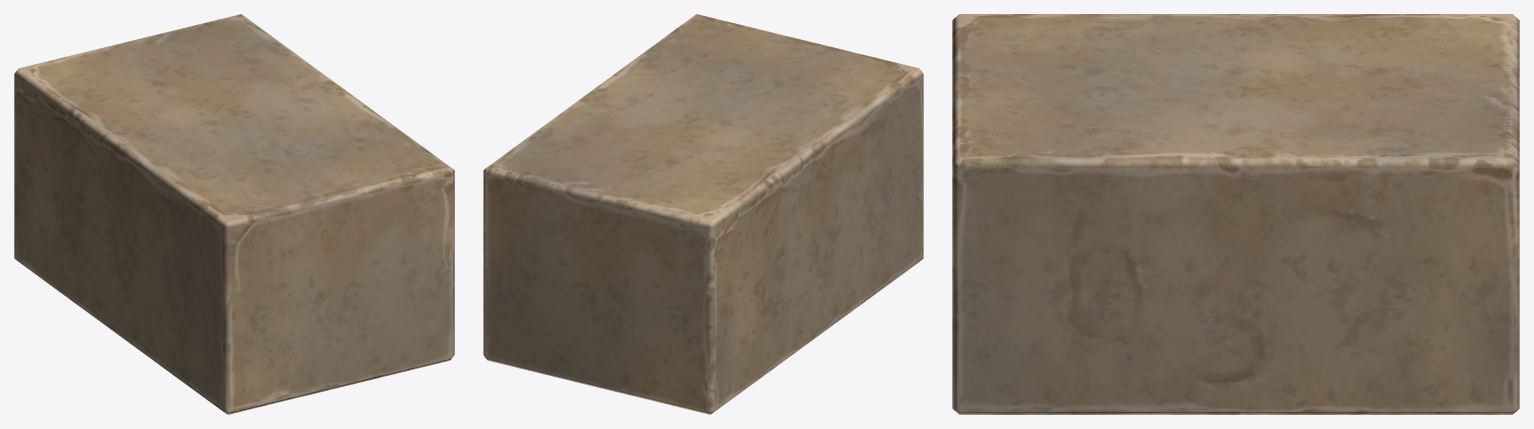
Rendered from SM_construction_block_01.glb.
3 views of the same model, side by side, from view 1: azimuth 30°, elevation 25°; view 2: azimuth 150°, elevation 25°; view 3: azimuth 270°, elevation 25° (orthographic). The views are drawn at different scales.
Visible parts, largest first — view 1: SM_construction_block_01; view 2: SM_construction_block_01; view 3: SM_construction_block_01.
Boxes of the visible parts, bbox=[...] form: SM_construction_block_01: bbox=[14, 14, 454, 414]; SM_construction_block_01: bbox=[483, 14, 923, 414]; SM_construction_block_01: bbox=[952, 14, 1519, 414].
Bounding box in the file's own units: 1.5 × 1.2 × 2.4.
Materials: 1 (1 with a texture image).
